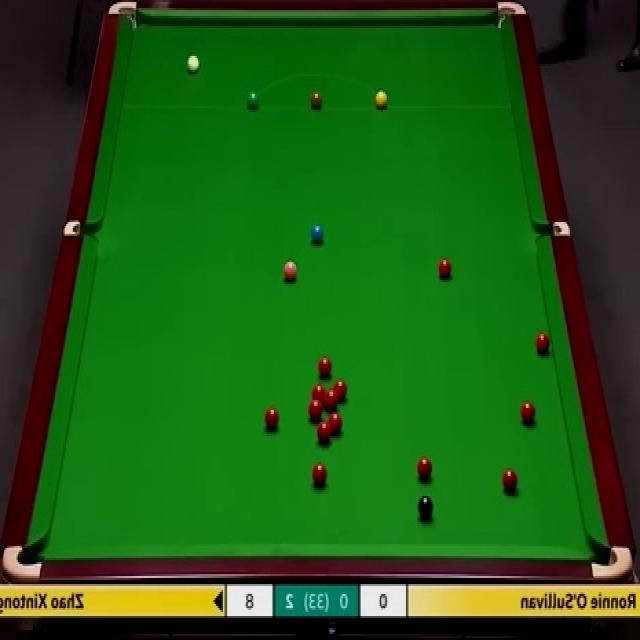black-ball: (417, 496, 433, 523)
blue-ball: (310, 222, 324, 245)
brown-ball: (310, 88, 322, 110)
green-ball: (247, 92, 260, 111)
pink-ball: (283, 260, 297, 281)
red-ball: (502, 470, 520, 498), (262, 406, 280, 432), (535, 332, 552, 358), (520, 398, 536, 425), (312, 461, 327, 487), (416, 456, 432, 480), (328, 411, 343, 436), (318, 356, 332, 380), (334, 378, 348, 402), (317, 422, 330, 446), (438, 257, 452, 278), (309, 400, 322, 421), (312, 385, 325, 405), (325, 389, 338, 408)
white-ball: (185, 52, 201, 78)
yellow-ball: (375, 90, 388, 111)
